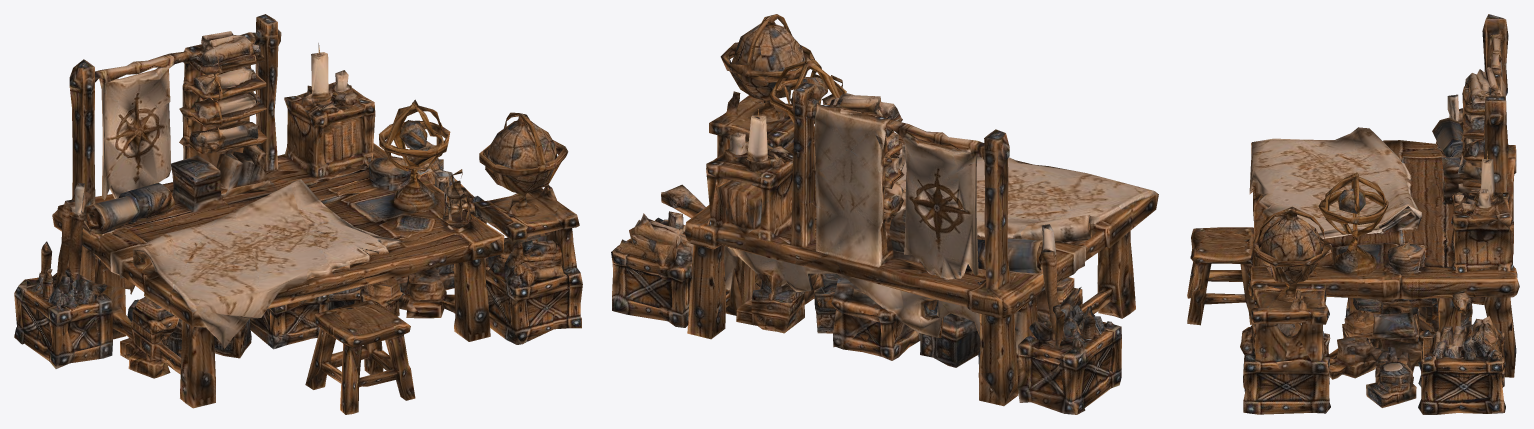
File: map-table.glb
The picture shows the model from 3 angles, left to right: view 1: azimuth 30°, elevation 25°; view 2: azimuth 150°, elevation 25°; view 3: azimuth 270°, elevation 25°; orthographic projection. The views are drawn at different scales.
Bounding box in the file's own units: 1.89 × 1.05 × 1.34.
Materials: 1 (1 with a texture image).
